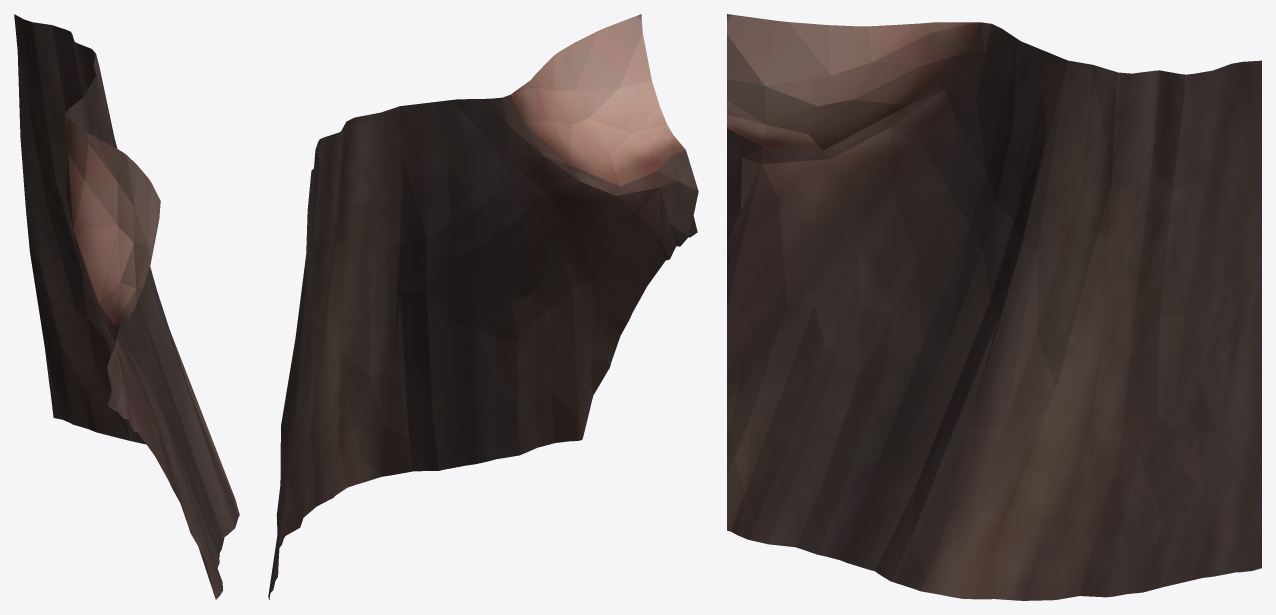
3 renders of one model, left to right at view 1: azimuth 30°, elevation 25°; view 2: azimuth 150°, elevation 25°; view 3: azimuth 270°, elevation 25°, orthographic. The views are drawn at different scales.
Visible parts, largest first — view 1: 091_W_Aya_100K_01; view 2: 091_W_Aya_100K_01; view 3: 091_W_Aya_100K_01.
Boxes of the visible parts, x1,y1,x2,y2 form: 091_W_Aya_100K_01: (14,14,239,599); 091_W_Aya_100K_01: (268,14,698,599); 091_W_Aya_100K_01: (727,14,1261,600).
Size of the model in its own units: 25.2 by 42.87 by 42.87.
1 material, 1 textured.
